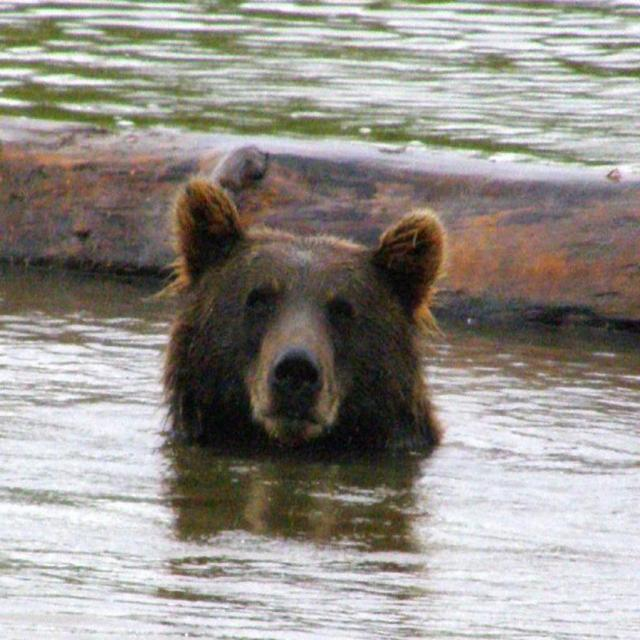bear: (144, 174, 470, 526)
